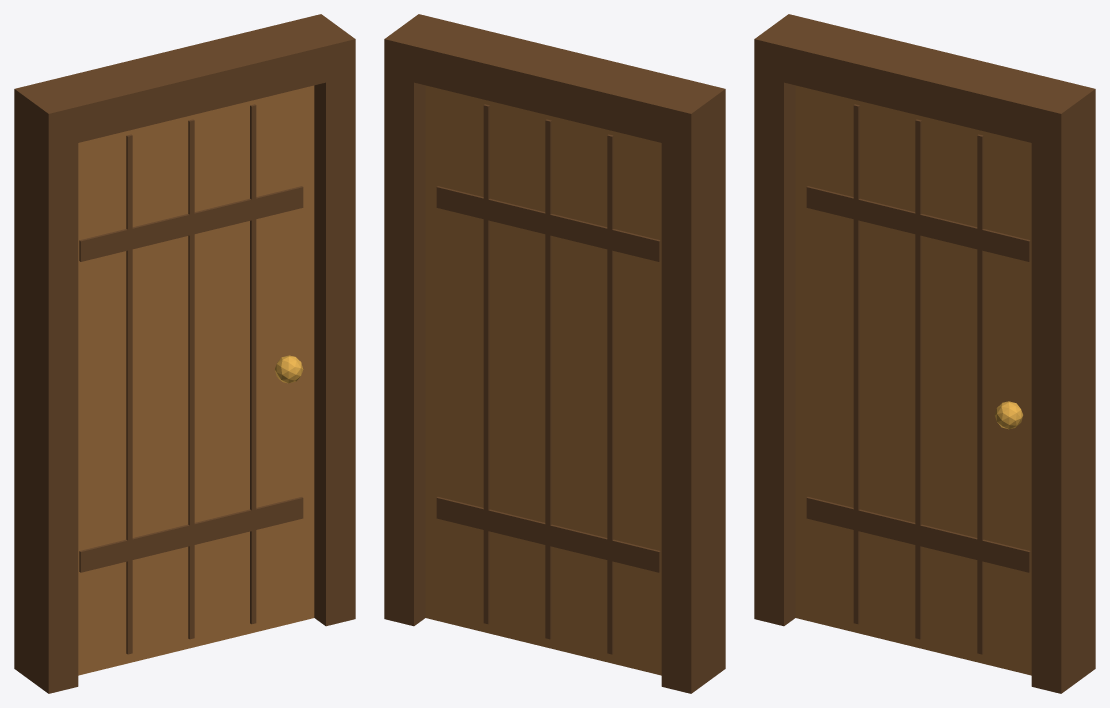
File: door.glb
3 renders of one model, left to right at view 1: azimuth 30°, elevation 25°; view 2: azimuth 150°, elevation 25°; view 3: azimuth 330°, elevation 25°, orthographic.
Parts seen in each view (by area): view 1: door.slab, door; view 2: door.slab, door; view 3: door.slab, door.
Part boxes in pixels (bbox=[...]): door.slab: bbox=[78, 85, 314, 675]; door: bbox=[14, 14, 355, 693]; door.slab: bbox=[425, 85, 661, 675]; door: bbox=[384, 14, 725, 693]; door.slab: bbox=[795, 85, 1031, 675]; door: bbox=[754, 14, 1095, 693].
Size of the model in its own units: 1.24 by 2.24 by 0.24.
